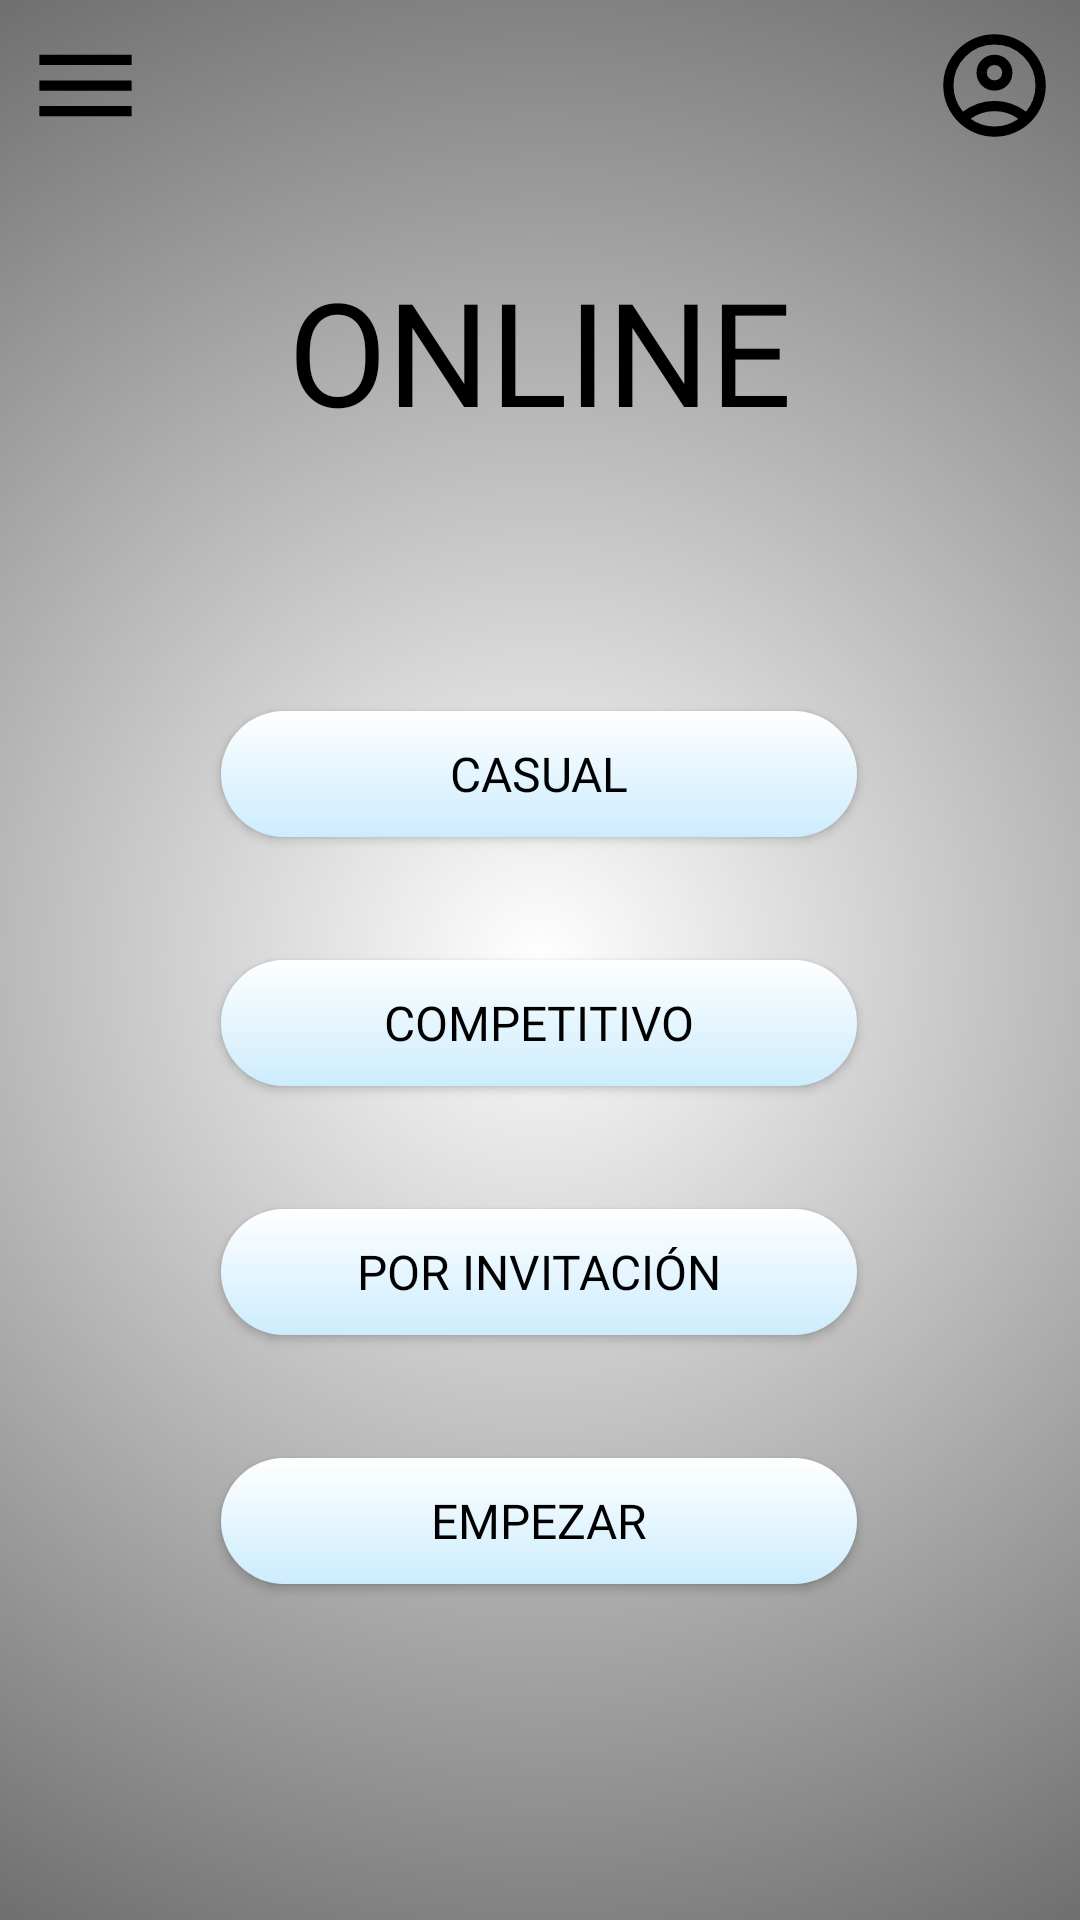

Where to tap for icons on this 1080px x 1920px app screen, as point (x, y):
account: point (994, 85)
menu: point (85, 85)
